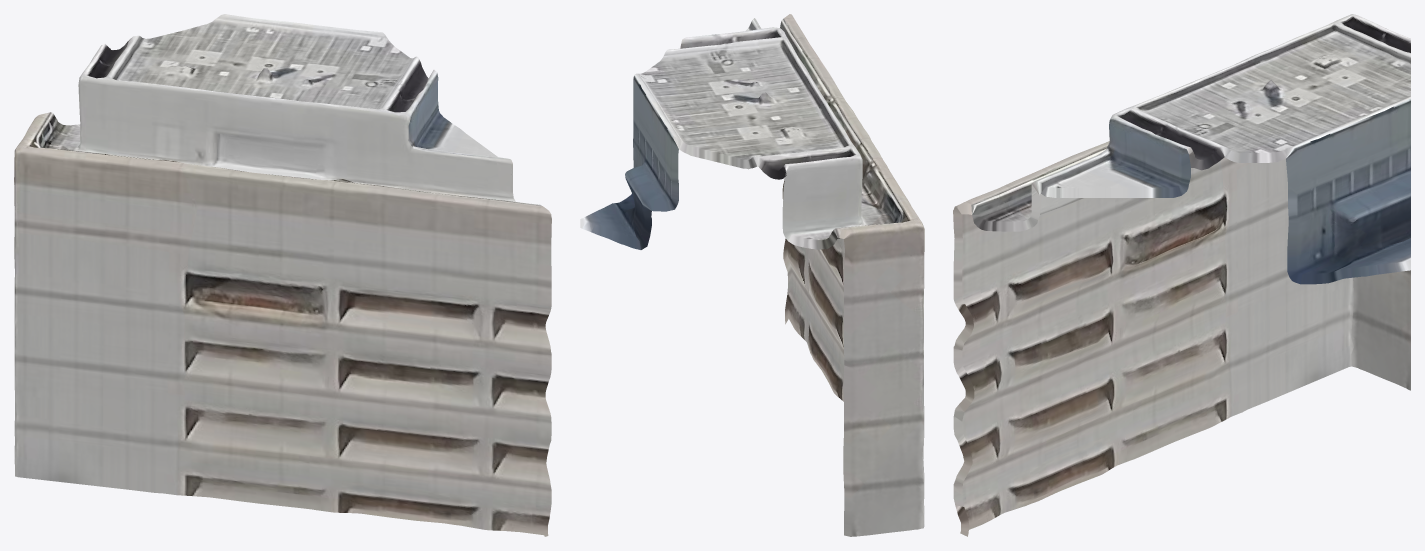
Rendered from z20-167784-405230-h1-yup-uvflip-v3-world.glb.
3 views of the same model, side by side, from view 1: azimuth 30°, elevation 25°; view 2: azimuth 150°, elevation 25°; view 3: azimuth 270°, elevation 25° (orthographic). The views are drawn at different scales.
Size of the model in its own units: 22.48 by 24.72 by 26.08.
Materials: 1 (1 with a texture image).
